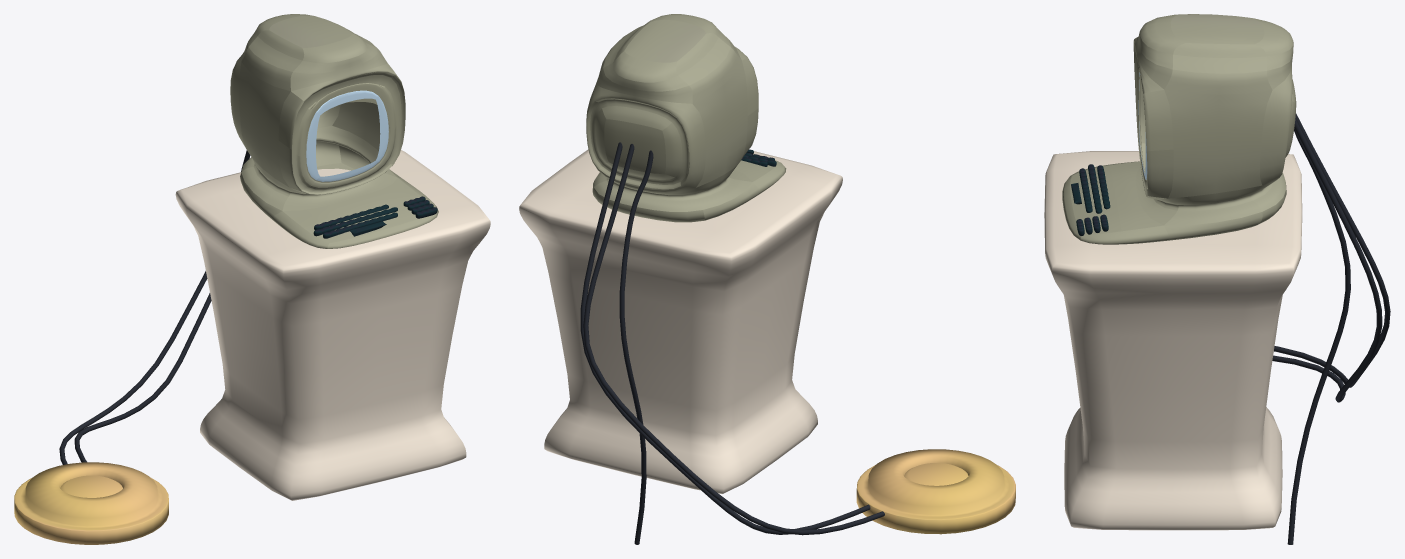
The model's file is ConnectingTerminal3.fbx.
3 renders of one model, left to right at view 1: azimuth 30°, elevation 25°; view 2: azimuth 150°, elevation 25°; view 3: azimuth 270°, elevation 25°, orthographic. The views are drawn at different scales.
Parts seen in each view (by area): view 1: Cube.022; view 2: Cube.022; view 3: Cube.022.
Boxes of the visible parts, left/top/right/bottom form: Cube.022: left=14, top=14, right=490, bottom=544; Cube.022: left=519, top=14, right=1015, bottom=544; Cube.022: left=1044, top=14, right=1390, bottom=544.
Size of the model in its own units: 195 by 205 by 123.
